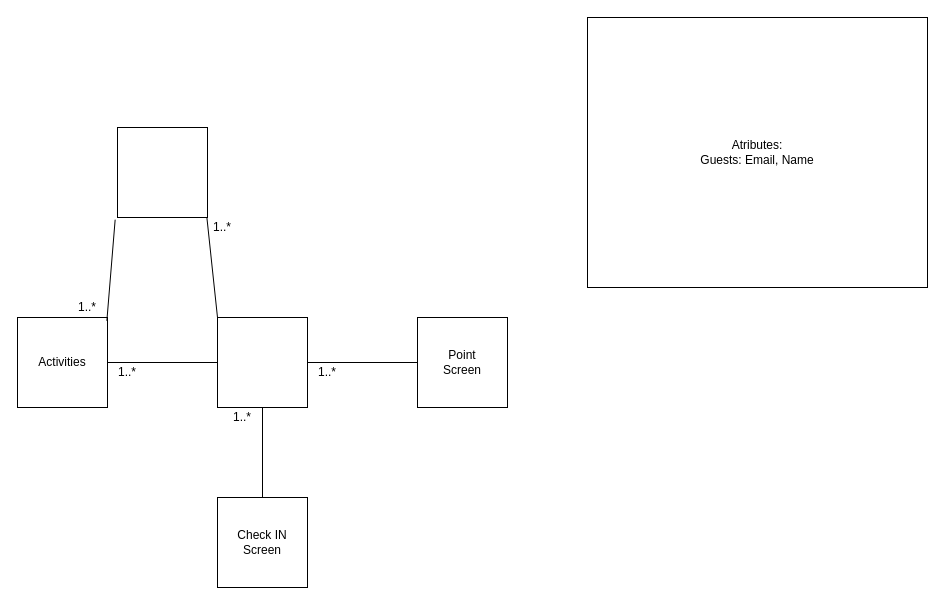
The diagram is 945 pixels wide and 605 high, and some of its shapes have lost their labels. The shapes that lost their labels are listed below. From the top down, each one's centre as x and y in pixels, then its label:
At (162,172): "Guests".
At (262,362): "Booking".
